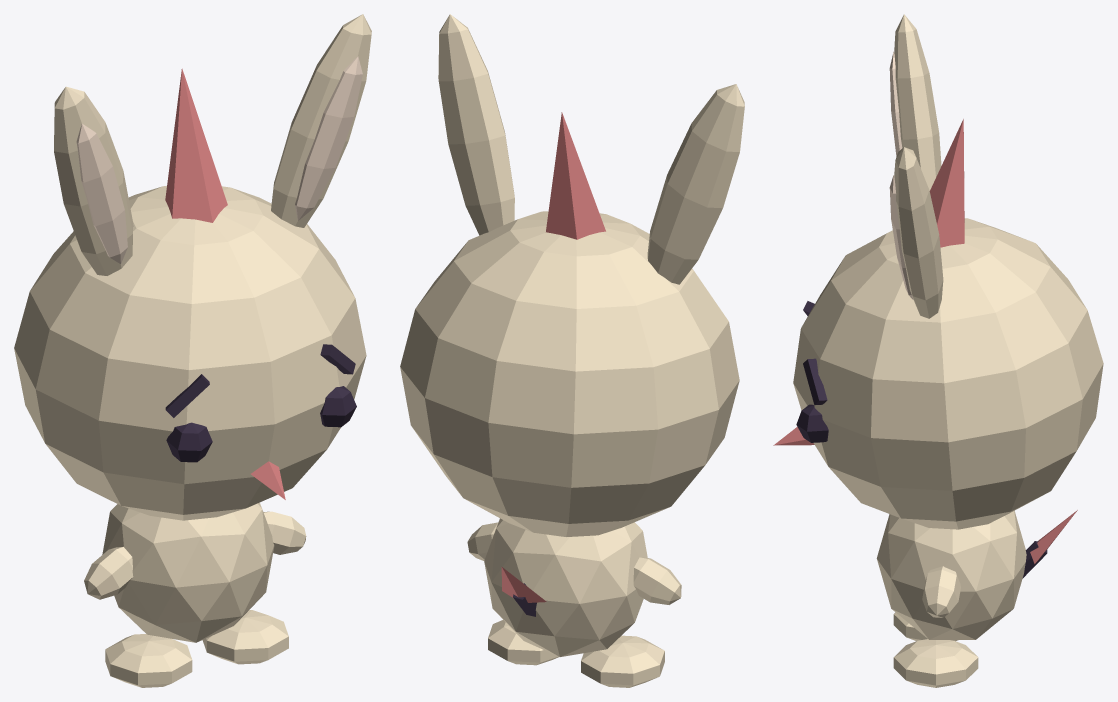
File: biped-wildwest-2.glb
3 renders of one model, left to right at view 1: azimuth 30°, elevation 25°; view 2: azimuth 150°, elevation 25°; view 3: azimuth 270°, elevation 25°, orthographic. The views are drawn at different scales.
Visible parts, largest first — view 1: biped-wildwest-2; view 2: biped-wildwest-2; view 3: biped-wildwest-2.
Part boxes in pixels (<box>): biped-wildwest-2: <box>14,14,371,687</box>; biped-wildwest-2: <box>400,14,744,687</box>; biped-wildwest-2: <box>773,14,1103,687</box>.
Size of the model in its own units: 0.4736 by 0.9 by 0.4656.
